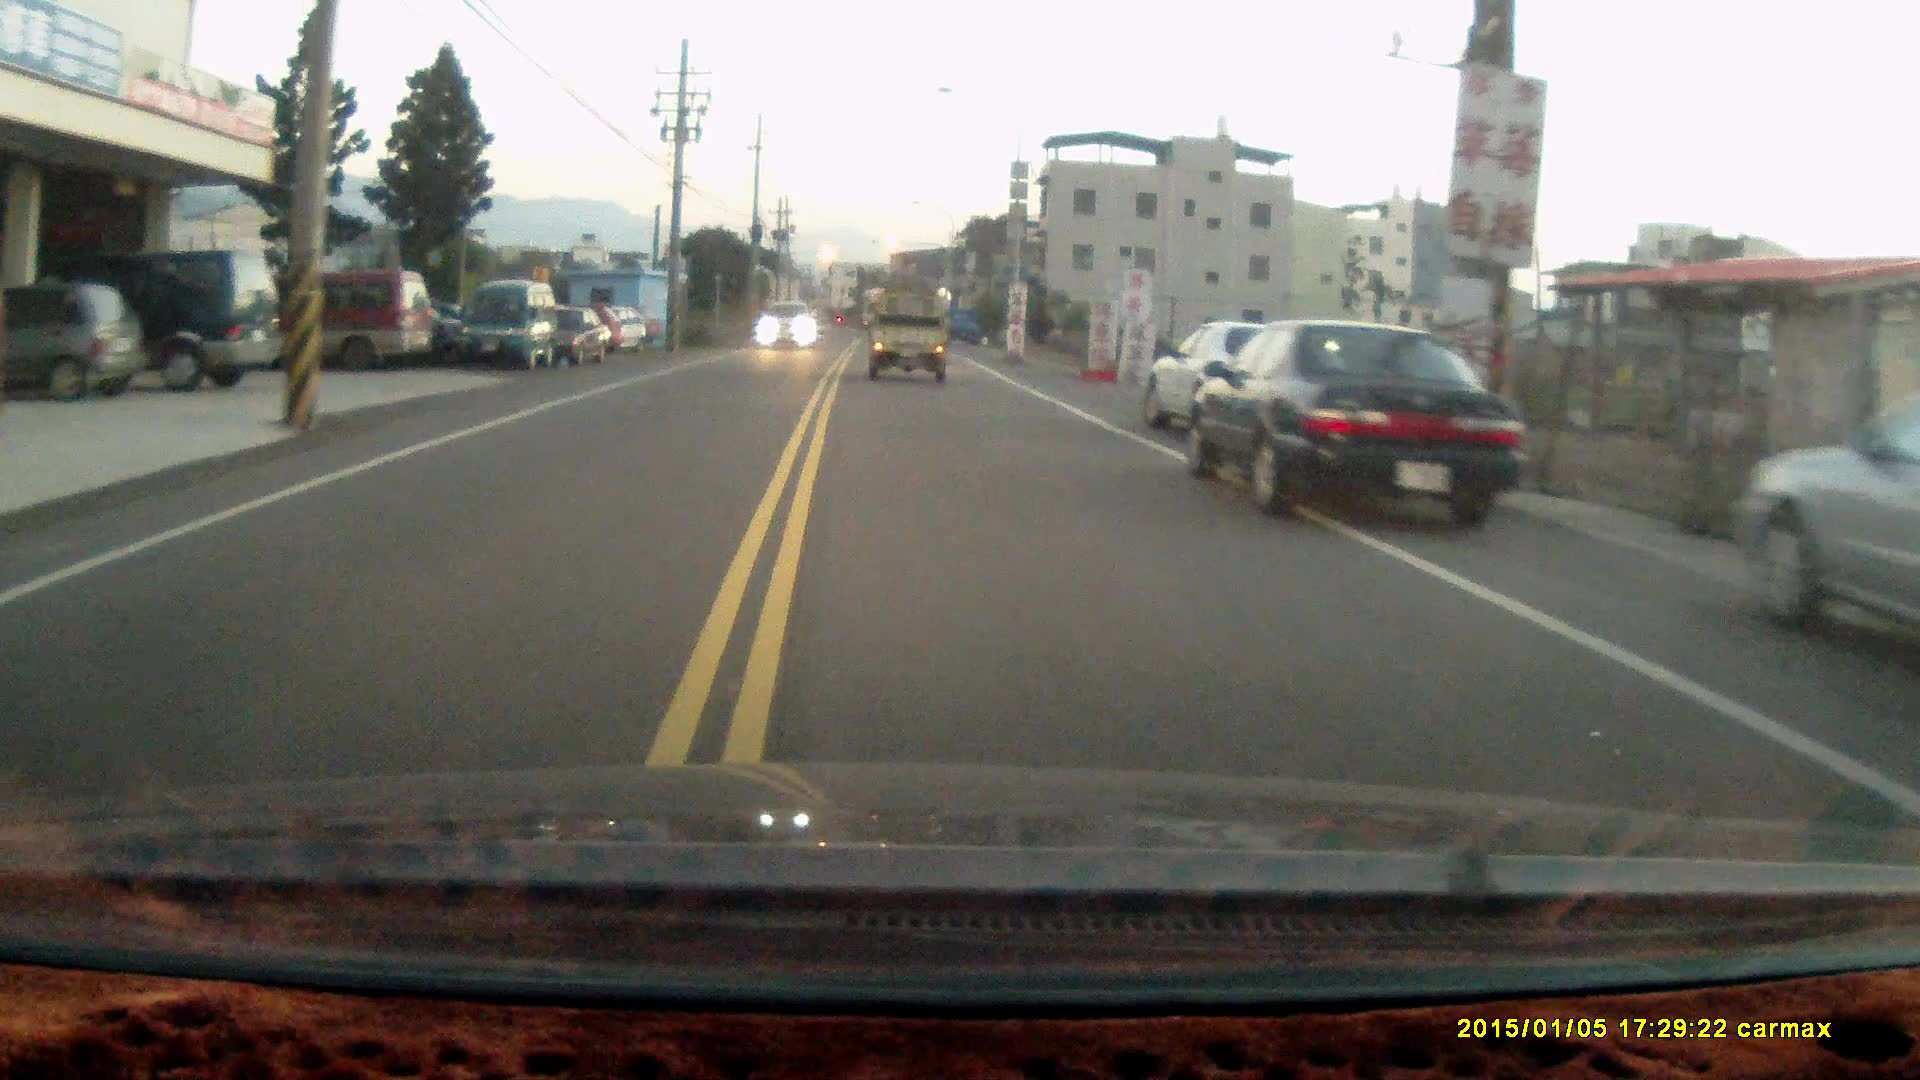vehicle: (1182, 316, 1524, 522), (1734, 397, 1920, 655), (30, 241, 285, 389), (229, 264, 435, 367), (1150, 318, 1315, 443), (1, 281, 146, 411), (448, 277, 556, 369), (866, 286, 949, 378), (533, 305, 615, 367), (757, 301, 820, 351)
